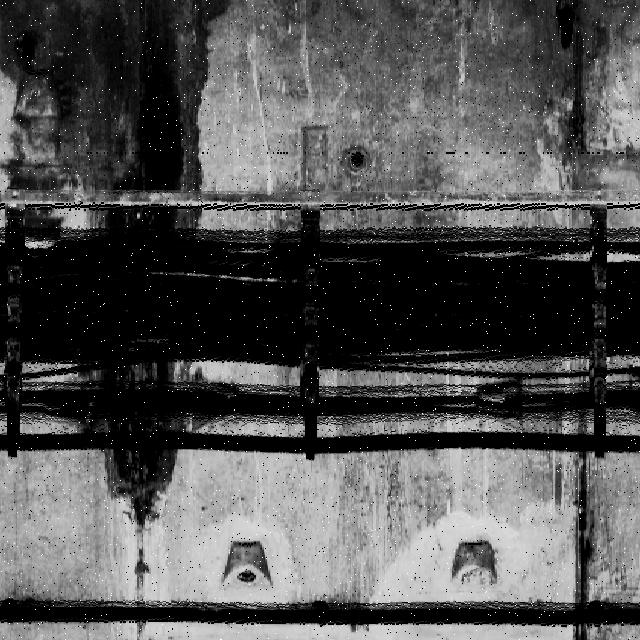leakage: (0, 0, 238, 228), (58, 352, 208, 534), (548, 0, 584, 52)
